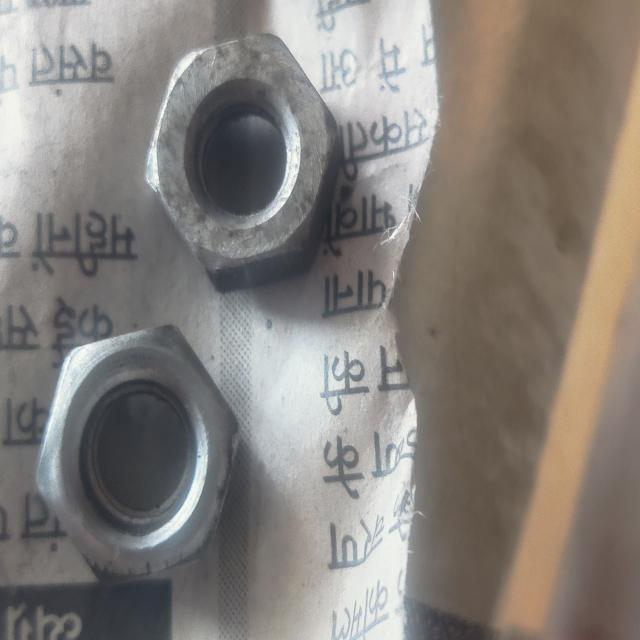disinfected nut: (38, 327, 238, 580), (145, 33, 340, 290)
